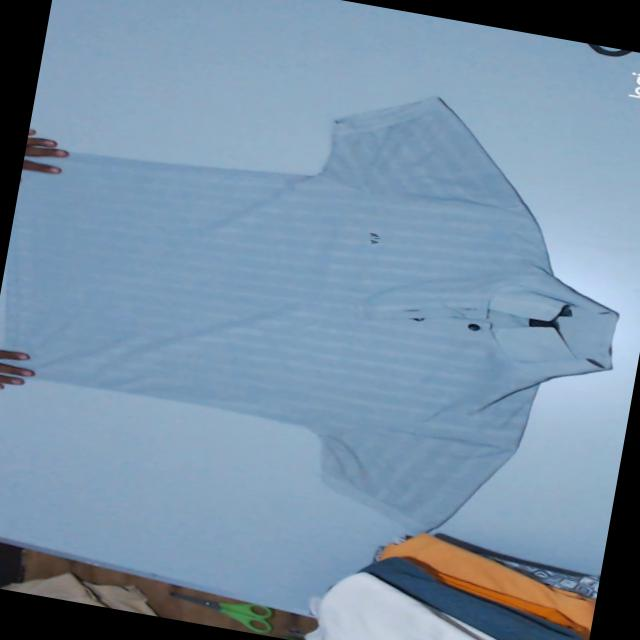new-garment: (6, 97, 616, 528)
